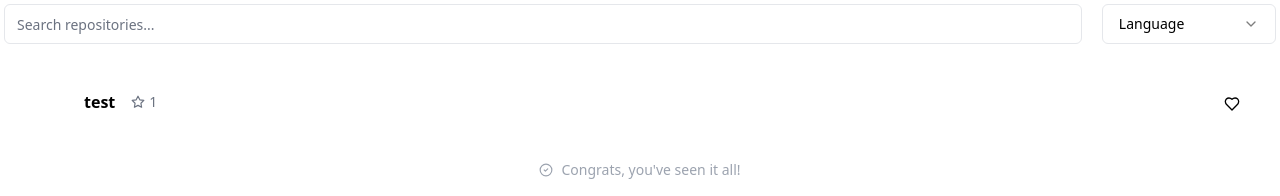
Test: should store repo in local storage when favorite button clicked
Click the button named "Save as favorite": (1232, 104) [1216,88,1248,120]
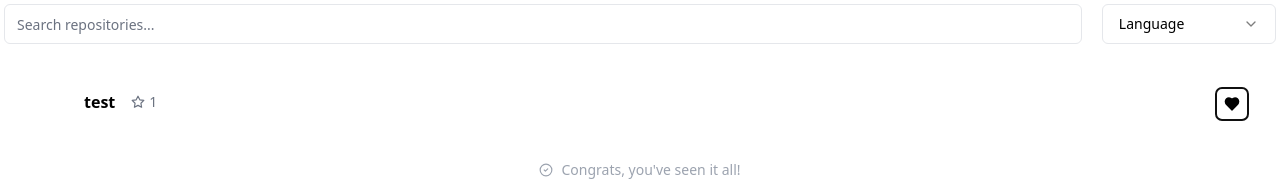
Expected: the button named "Remove from favorites" is shown, [1216,88,1248,120]
